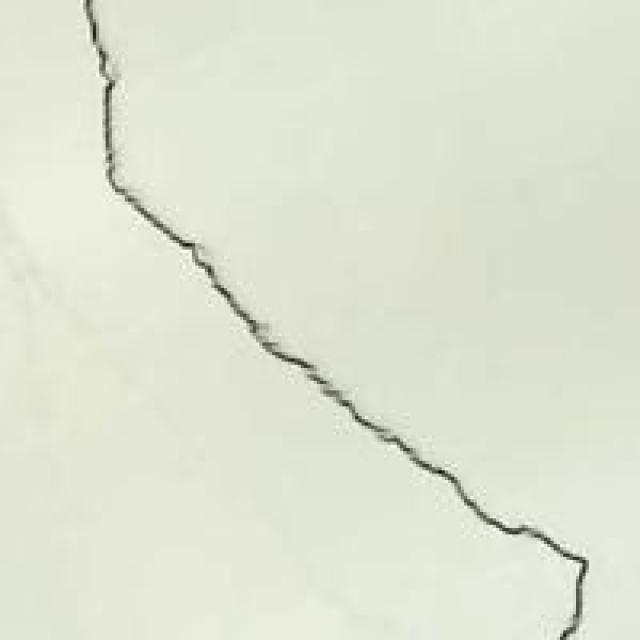Crack: (77, 0, 589, 637)
